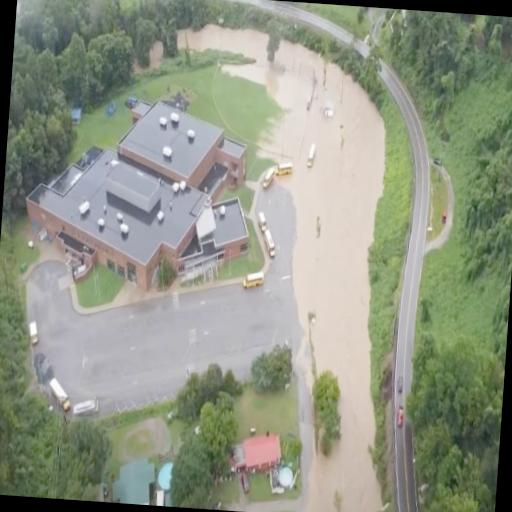flood: (180, 24, 386, 512)
house: (26, 146, 216, 294), (109, 88, 227, 190), (230, 428, 286, 485), (112, 453, 156, 505)
